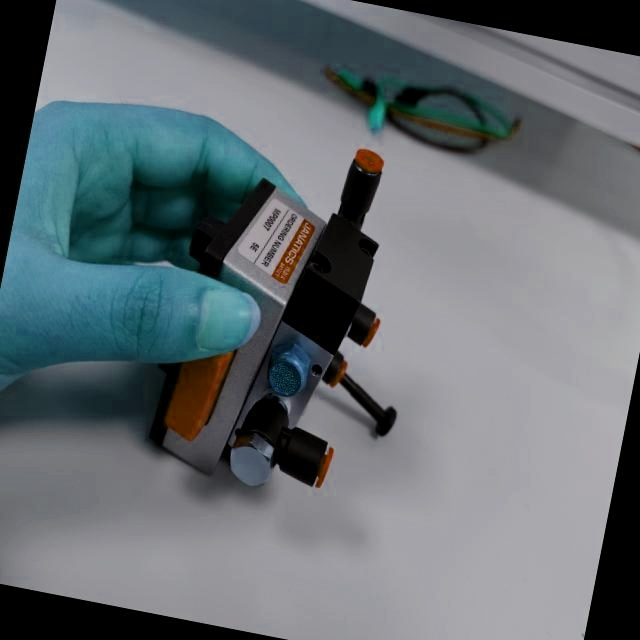5by2 DCV: (134, 98, 458, 523)
